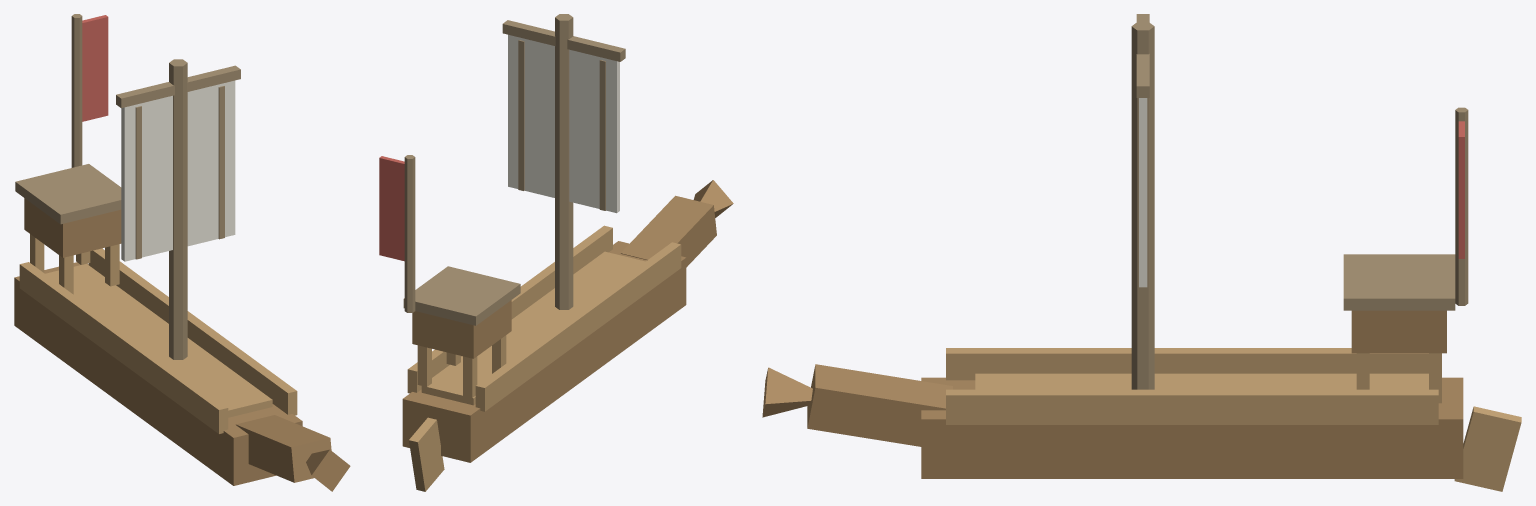
Rendered from troop-waeseon.glb.
The picture shows the model from 3 angles, left to right: view 1: azimuth 30°, elevation 25°; view 2: azimuth 150°, elevation 25°; view 3: azimuth 270°, elevation 25°; orthographic projection. The views are drawn at different scales.
Visible parts, largest first — view 1: sail, body, deck, gunwale_l, mast, gunwale_r, yagura_roof, prow, yagura, nobori, nobori_pole, sail_yard (+4 smaller); view 2: sail, body, gunwale_l, deck, mast, yagura_roof, prow, yagura, gunwale_r, nobori, nobori_pole, rudder (+5 smaller); view 3: body, gunwale_r, gunwale_l, prow, deck, yagura_roof, mast, yagura, rudder, sail, nobori_pole, prow_tip (+1 smaller).
Boxes of the visible parts, bbox=[...] form: sail: bbox=[121, 80, 235, 261]; body: bbox=[14, 262, 302, 485]; deck: bbox=[45, 264, 272, 417]; gunwale_l: bbox=[19, 262, 228, 433]; mast: bbox=[169, 59, 187, 359]; gunwale_r: bbox=[88, 248, 297, 415]; yagura_roof: bbox=[15, 164, 121, 224]; prow: bbox=[235, 415, 331, 482]; yagura: bbox=[24, 198, 121, 257]; nobori: bbox=[82, 15, 108, 121]; nobori_pole: bbox=[71, 14, 82, 167]; sail_yard: bbox=[116, 65, 240, 108]; sail: bbox=[508, 34, 619, 213]; body: bbox=[402, 241, 686, 462]; gunwale_l: bbox=[475, 242, 681, 411]; deck: bbox=[421, 251, 645, 405]; mast: bbox=[555, 14, 573, 309]; yagura_roof: bbox=[403, 266, 520, 325]; prow: bbox=[620, 195, 716, 267]; yagura: bbox=[412, 300, 511, 358]; gunwale_r: bbox=[407, 225, 612, 393]; nobori: bbox=[379, 156, 404, 261]; nobori_pole: bbox=[404, 155, 415, 312]; rudder: bbox=[409, 417, 444, 491]; body: bbox=[921, 377, 1463, 478]; gunwale_r: bbox=[946, 389, 1438, 424]; gunwale_l: bbox=[946, 348, 1428, 380]; prow: bbox=[807, 364, 952, 446]; deck: bbox=[975, 373, 1428, 389]; yagura_roof: bbox=[1343, 254, 1455, 310]; mast: bbox=[1131, 22, 1154, 389]; yagura: bbox=[1351, 310, 1446, 353]; rudder: bbox=[1454, 406, 1521, 491]; sail: bbox=[1137, 98, 1148, 287]; nobori_pole: bbox=[1455, 107, 1468, 305]; prow_tip: bbox=[762, 367, 812, 417].
Size of the model in its own units: 0.104 by 0.3109 by 0.462.
